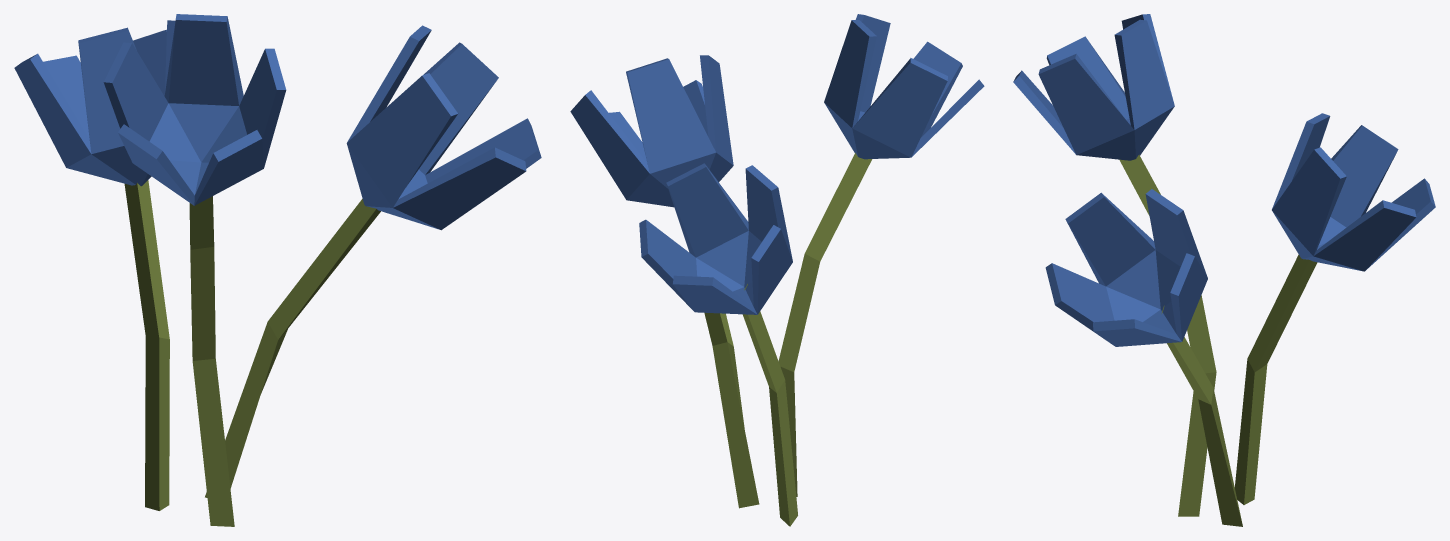
Rendered from flower_02.glb.
The picture shows the model from 3 angles, left to right: view 1: azimuth 30°, elevation 25°; view 2: azimuth 150°, elevation 25°; view 3: azimuth 270°, elevation 25°; orthographic projection. The views are drawn at different scales.
Visible parts, largest first — view 1: rpgpp_lt_flower_03; view 2: rpgpp_lt_flower_03; view 3: rpgpp_lt_flower_03.
Part boxes in pixels (<box>): rpgpp_lt_flower_03: <box>14,14,541,526</box>; rpgpp_lt_flower_03: <box>570,14,984,526</box>; rpgpp_lt_flower_03: <box>1013,14,1435,526</box>.
Bounding box in the file's own units: 0.6609 × 0.7797 × 0.641.
Materials: 1 (1 with a texture image).
